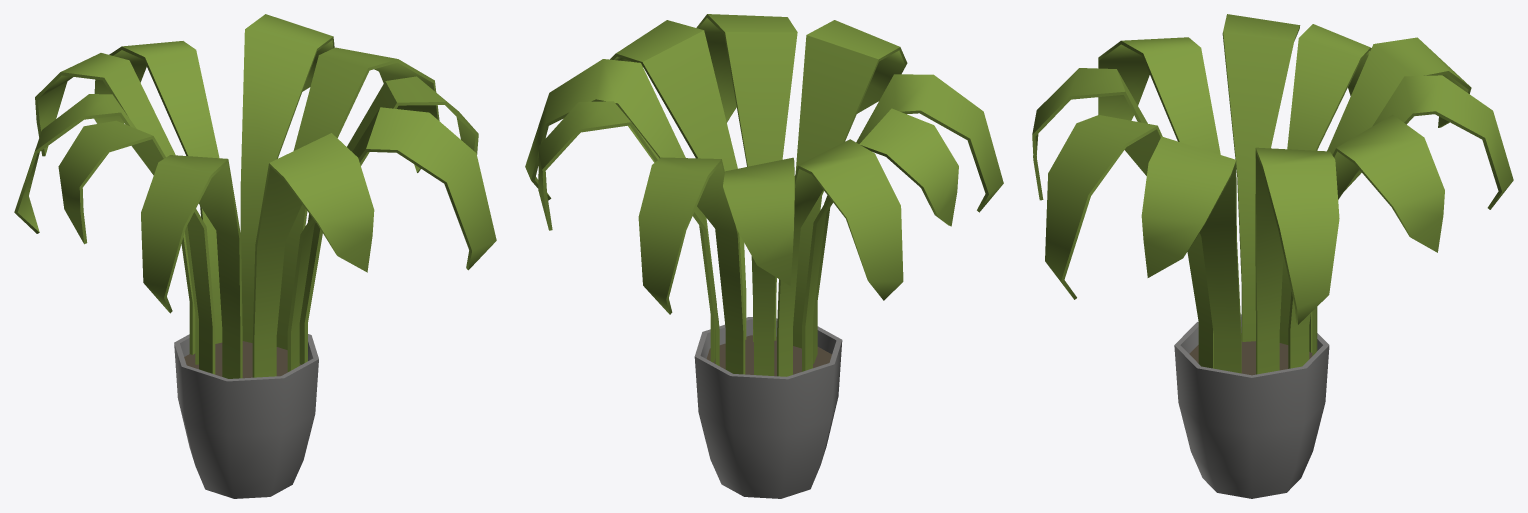
3 views of the same model, side by side, from view 1: azimuth 30°, elevation 25°; view 2: azimuth 150°, elevation 25°; view 3: azimuth 270°, elevation 25° (orthographic). The views are drawn at different scales.
Parts seen in each view (by area): view 1: Houseplant_6_Cylinder.015; view 2: Houseplant_6_Cylinder.015; view 3: Houseplant_6_Cylinder.015.
Boxes of the visible parts, x1,y1,x2,y2 form: Houseplant_6_Cylinder.015: [14, 14, 496, 498]; Houseplant_6_Cylinder.015: [525, 14, 1003, 498]; Houseplant_6_Cylinder.015: [1032, 14, 1513, 498].
Size of the model in its own units: 1.04 by 0.9586 by 1.05.
